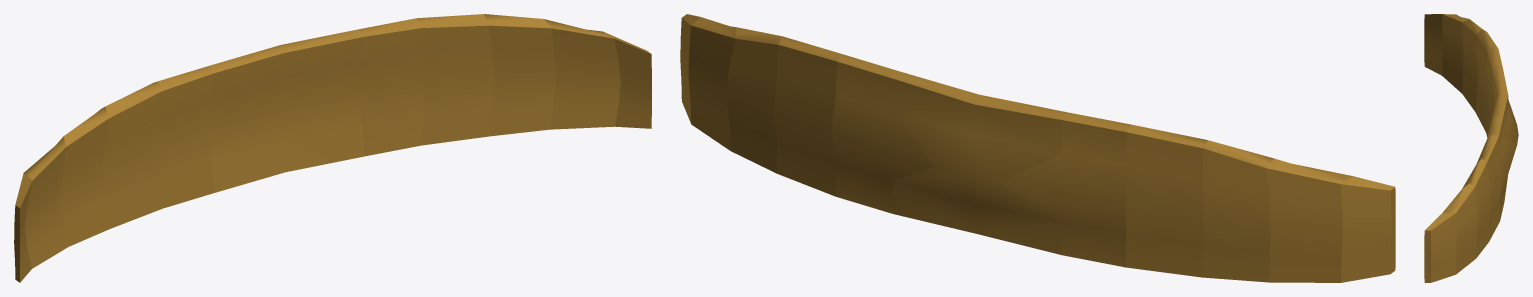
File: Deflector.fbx
3 renders of one model, left to right at view 1: azimuth 30°, elevation 25°; view 2: azimuth 150°, elevation 25°; view 3: azimuth 270°, elevation 25°, orthographic. The views are drawn at different scales.
Visible parts, largest first — view 1: pCube2; view 2: pCube2; view 3: pCube2.
Boxes of the visible parts, bbox=[...] form: pCube2: bbox=[14, 14, 651, 282]; pCube2: bbox=[680, 14, 1395, 282]; pCube2: bbox=[1424, 14, 1518, 282].
Bounding box in the file's own units: 3.84 × 0.7164 × 0.7044.
